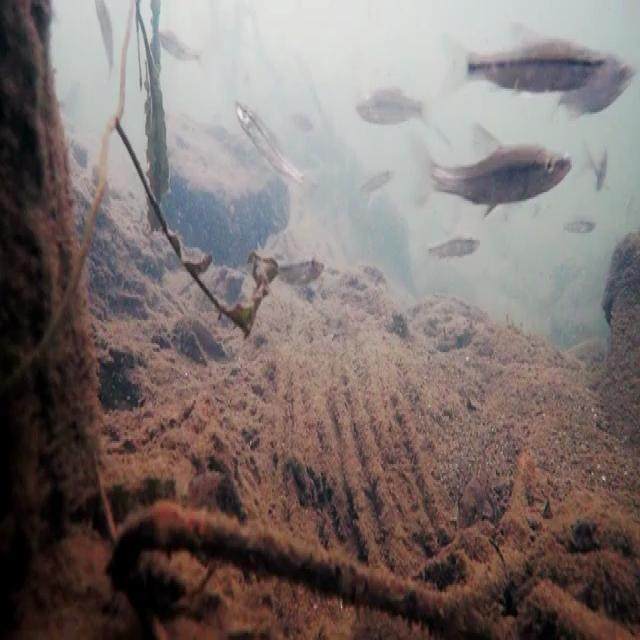Cakil Baligi: (410, 130, 578, 217), (432, 21, 606, 102), (231, 94, 309, 194)
